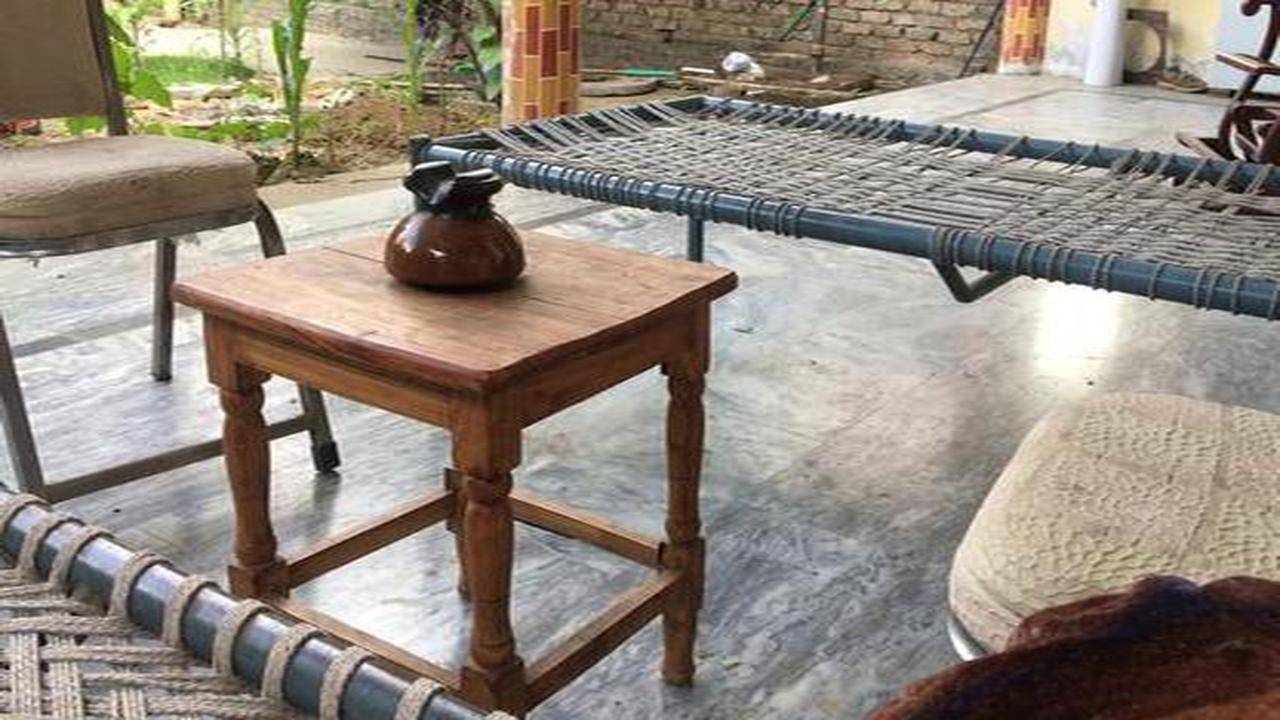insulator_pin: (373, 148, 545, 305)
